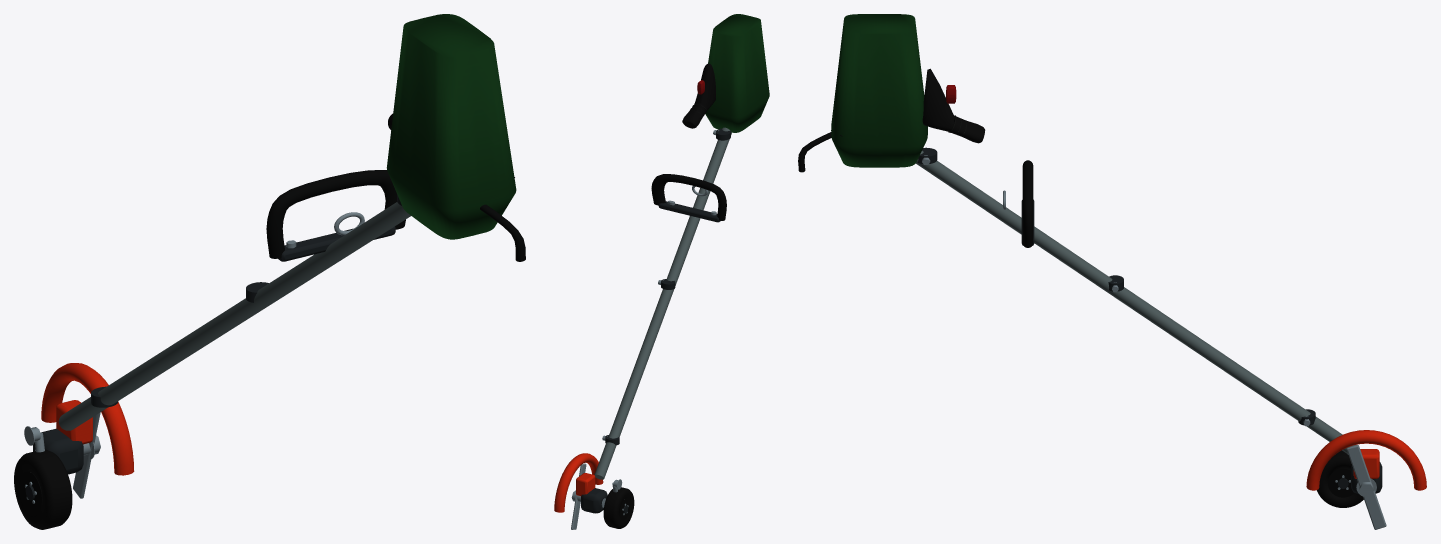
Rendered from ElectricEdger.gltf.
3 renders of one model, left to right at view 1: azimuth 30°, elevation 25°; view 2: azimuth 150°, elevation 25°; view 3: azimuth 270°, elevation 25°, orthographic. The views are drawn at different scales.
Parts seen in each view (by area): view 1: ElectricEdger__Body, ElectricEdger__Wheel_Guide, ElectricEdger__Wheel_Blade; view 2: ElectricEdger__Body, ElectricEdger__Wheel_Guide, ElectricEdger__Wheel_Blade; view 3: ElectricEdger__Body, ElectricEdger__Wheel_Guide, ElectricEdger__Wheel_Blade.
Part boxes in pixels (bbox=[...]): ElectricEdger__Body: bbox=[24, 14, 525, 475]; ElectricEdger__Wheel_Guide: bbox=[14, 449, 72, 529]; ElectricEdger__Wheel_Blade: bbox=[73, 412, 100, 498]; ElectricEdger__Body: bbox=[554, 14, 769, 513]; ElectricEdger__Wheel_Guide: bbox=[603, 487, 634, 528]; ElectricEdger__Wheel_Blade: bbox=[571, 463, 586, 529]; ElectricEdger__Body: bbox=[798, 14, 1426, 493]; ElectricEdger__Wheel_Guide: bbox=[1317, 450, 1363, 507]; ElectricEdger__Wheel_Blade: bbox=[1347, 445, 1386, 529].
Bounding box in the file's own units: 0.3276 × 1.33 × 1.46.
1 material, 1 textured.
